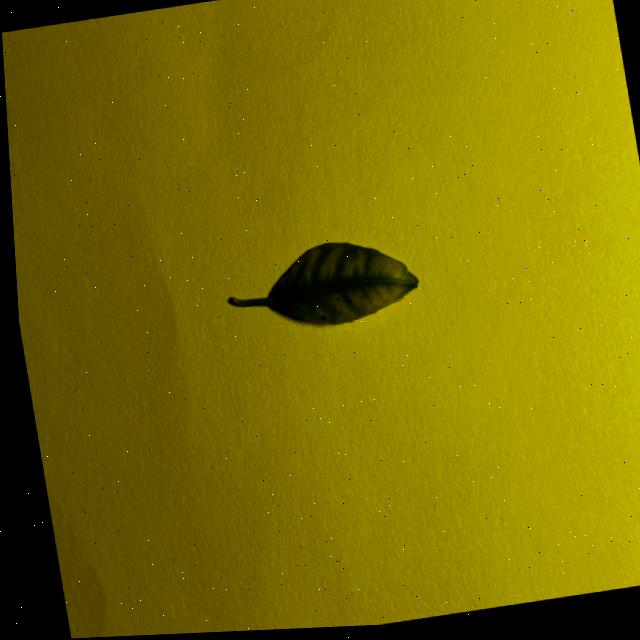greening: (228, 242, 417, 324)
